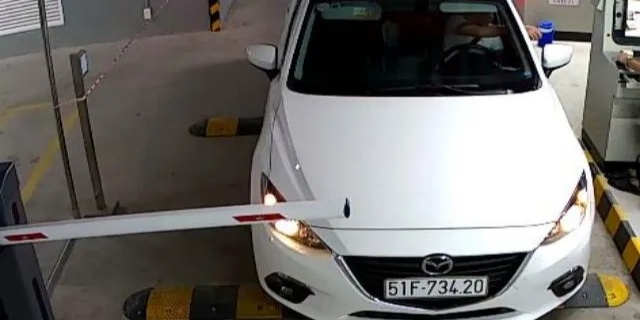bien_so: (384, 276, 487, 298)
